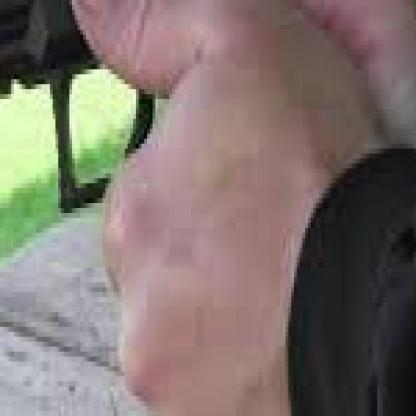gun: (0, 0, 402, 203)
